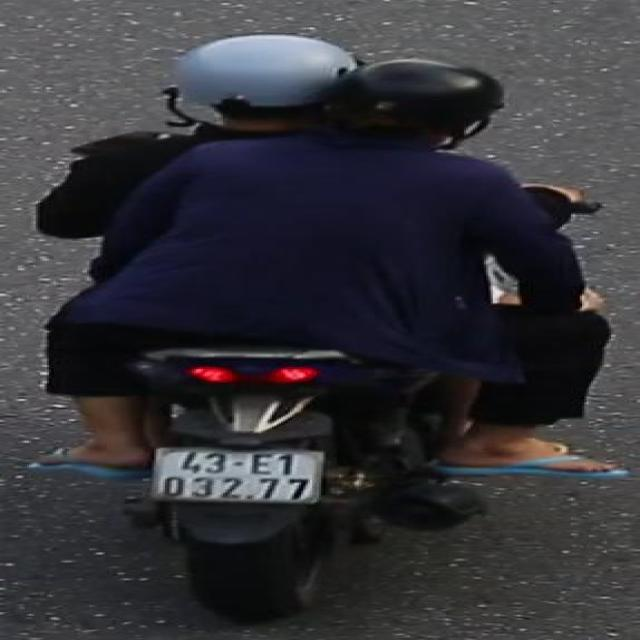LP: (144, 442, 332, 508)
helmet: (156, 29, 372, 147), (324, 52, 512, 150)
